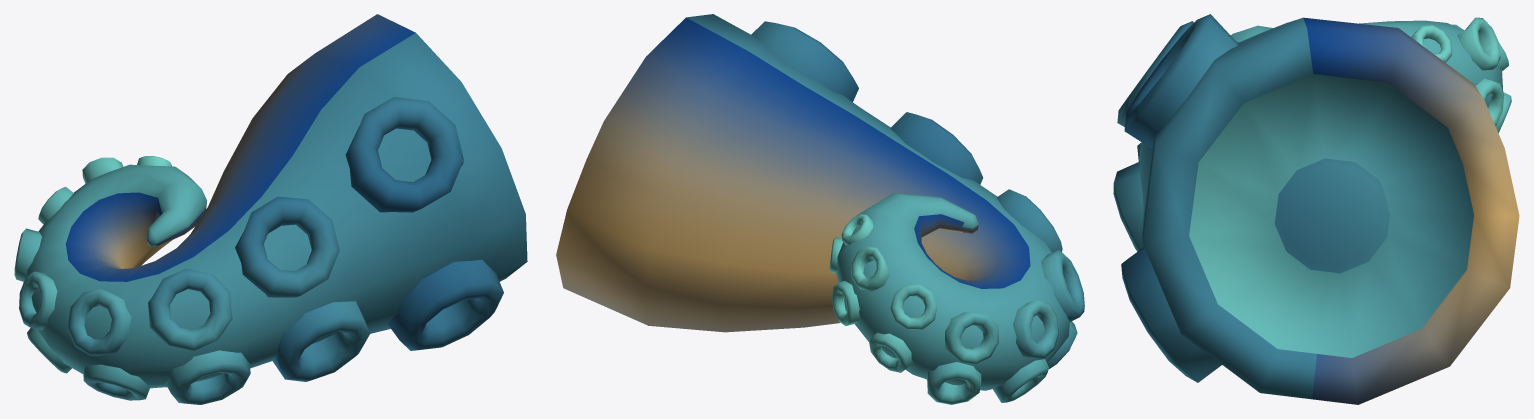
File: Fixed_Item_Tentacle_Blue_ver1.fbx
3 renders of one model, left to right at view 1: azimuth 30°, elevation 25°; view 2: azimuth 150°, elevation 25°; view 3: azimuth 270°, elevation 25°, orthographic. The views are drawn at different scales.
Visible parts, largest first — view 1: Tentacle Blue; view 2: Tentacle Blue; view 3: Tentacle Blue.
Part boxes in pixels (x1,y1,x2,y2): Tentacle Blue: (14,14,527,404); Tentacle Blue: (556,14,1084,404); Tentacle Blue: (1113,14,1519,404).
Bounding box in the file's own units: 354 × 216 × 221.
Materials: 2 (2 with a texture image).
